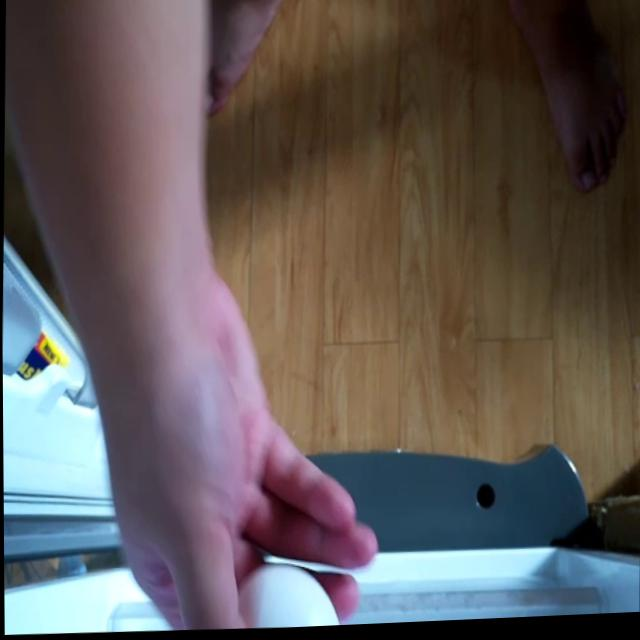egg: (234, 568, 338, 632)
